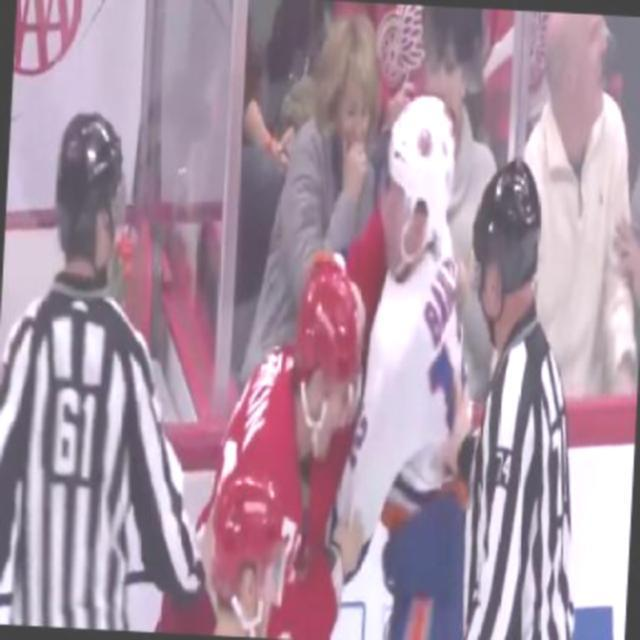fight: (210, 83, 484, 639)
non-fight: (0, 93, 215, 632), (448, 158, 596, 638)
